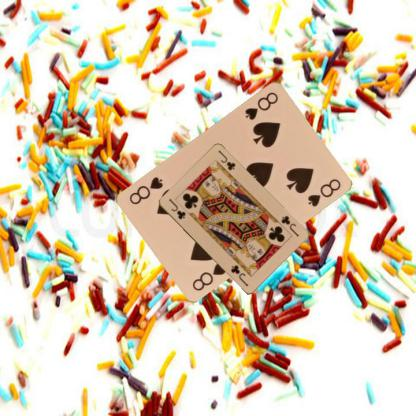8s: (190, 259, 227, 292), (242, 89, 280, 121)
Jc: (278, 213, 300, 238), (166, 196, 186, 221)
